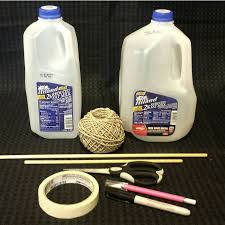milk: (121, 9, 196, 141), (24, 5, 80, 141)
